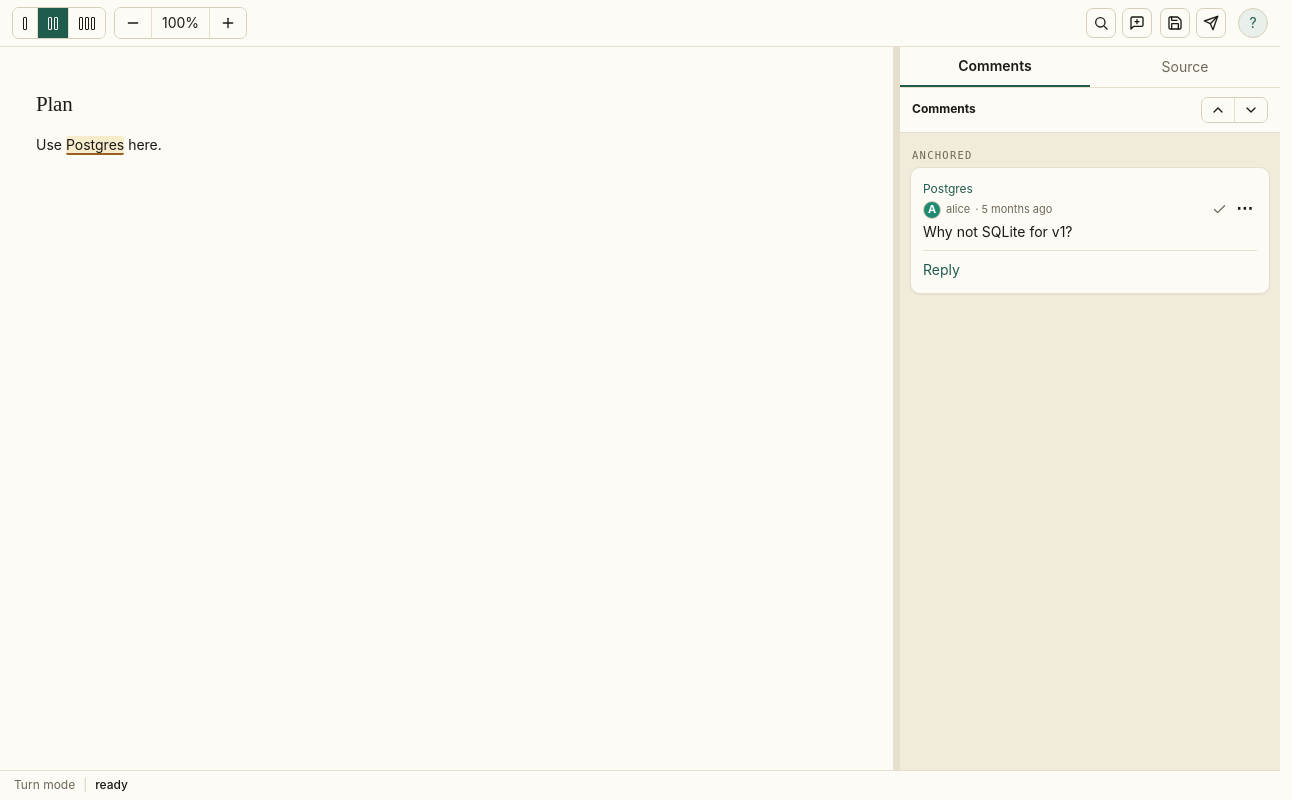
App comment-thread actions (memory-backed) › modify: ⋯ → Modify → edit text → Save updates the comment
Expected: the element that starts with "Postgres" is shown, [910,167,1270,294]
# Open the per-comment overflow menu (title "More").
Click the button titled "More" at coordinates (1244, 208), box [1232,203,1257,214]
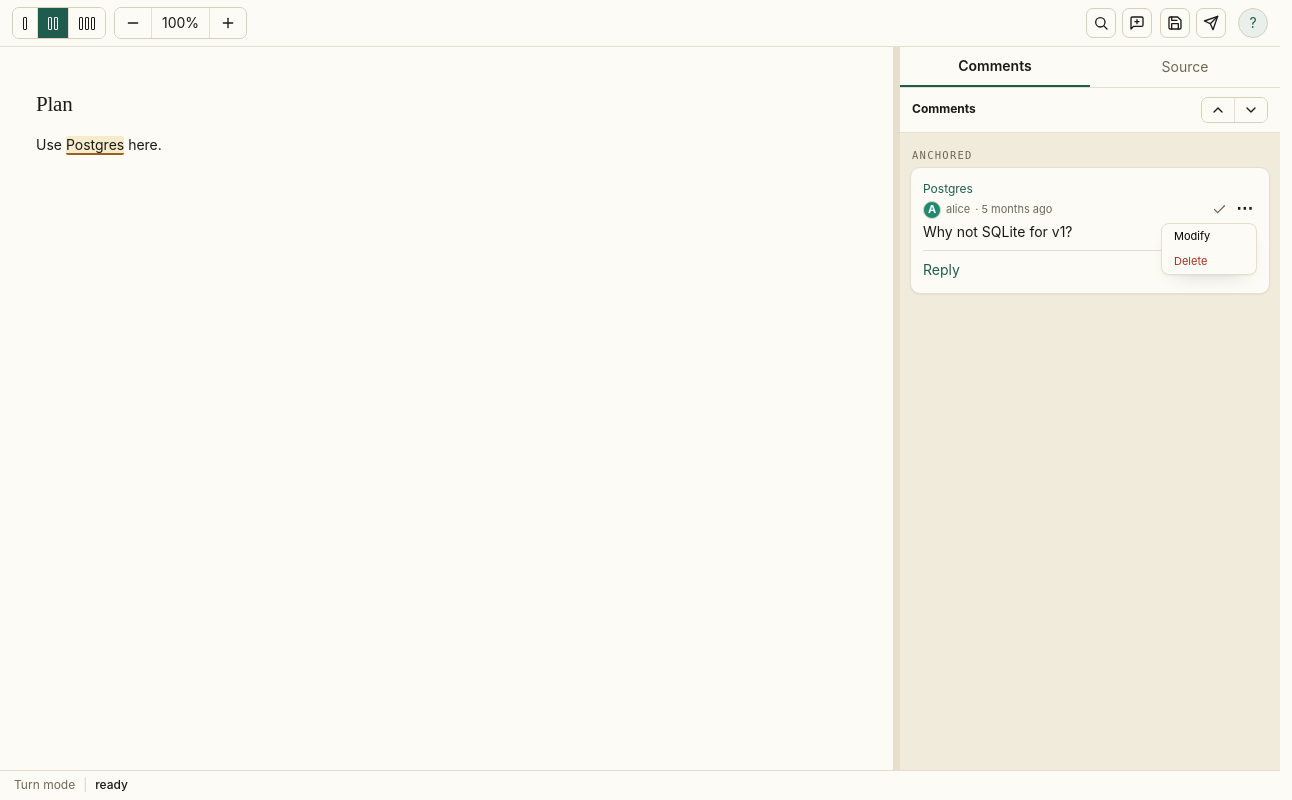
Click the button "Modify" at coordinates (1209, 236), box [1162,224,1256,249]
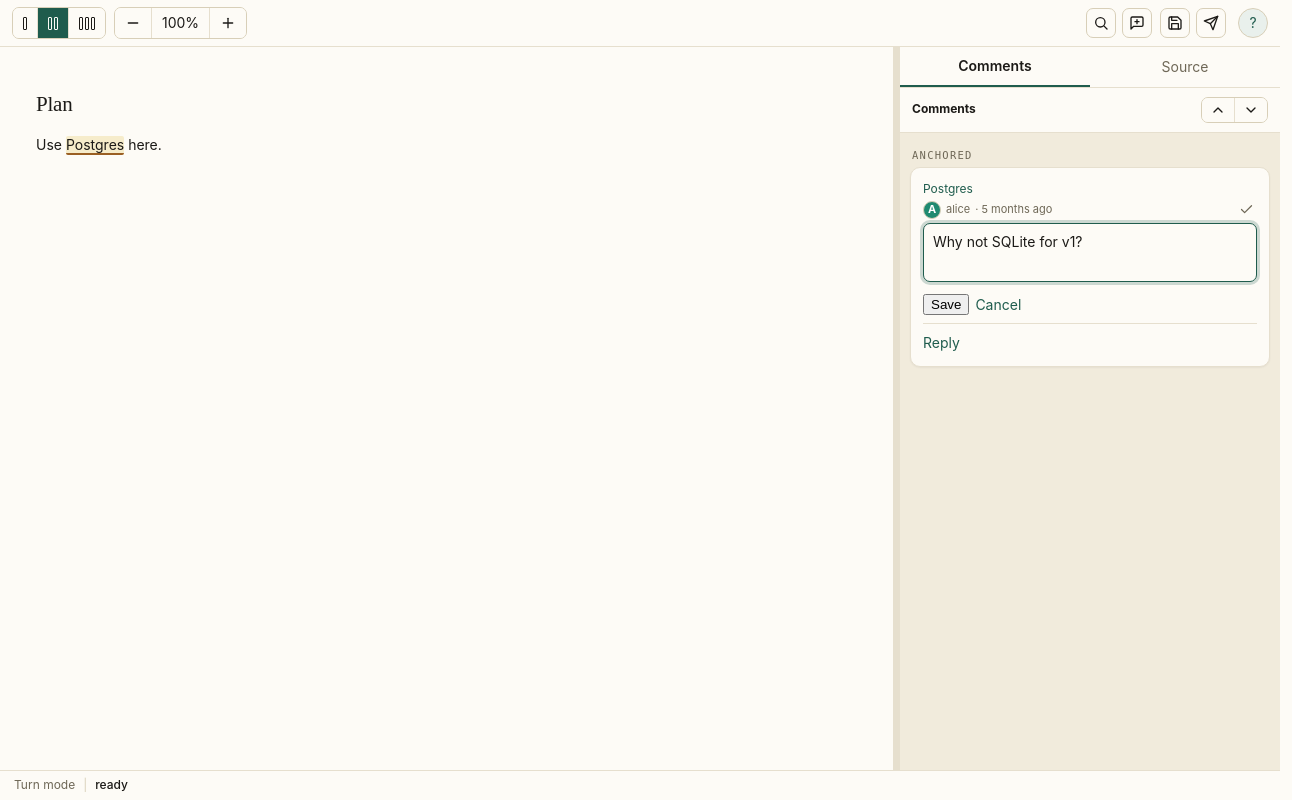
Expected: the element that starts with "Postgres" is shown, [910,167,1270,367]
Now the text box is shown
Replace the text in the text box with "Why not DuckDB for v1?" at coordinates (1090, 252), box [923,222,1257,282]
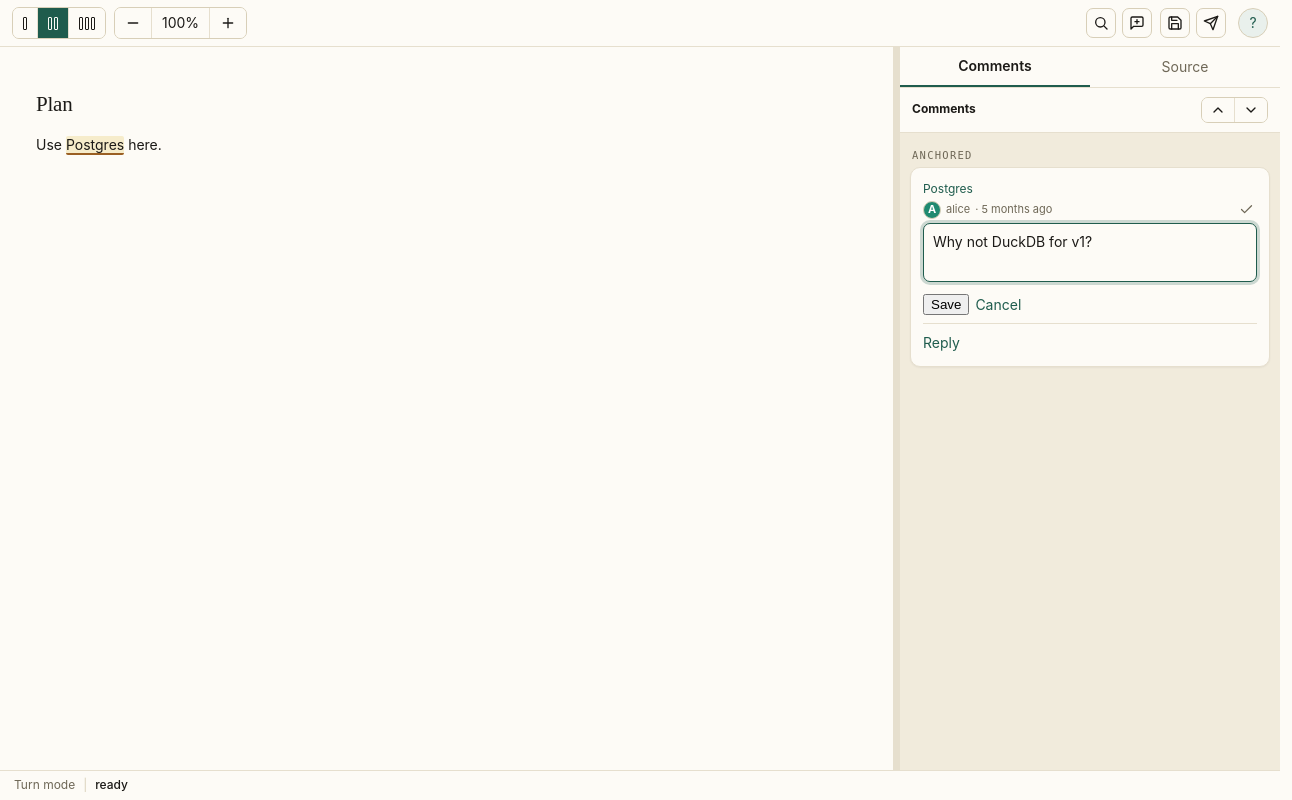
Expected: the element that starts with "Postgres" is shown, [910,167,1270,367]
Click the button "Save" at coordinates (946, 304), box [923,294,969,315]
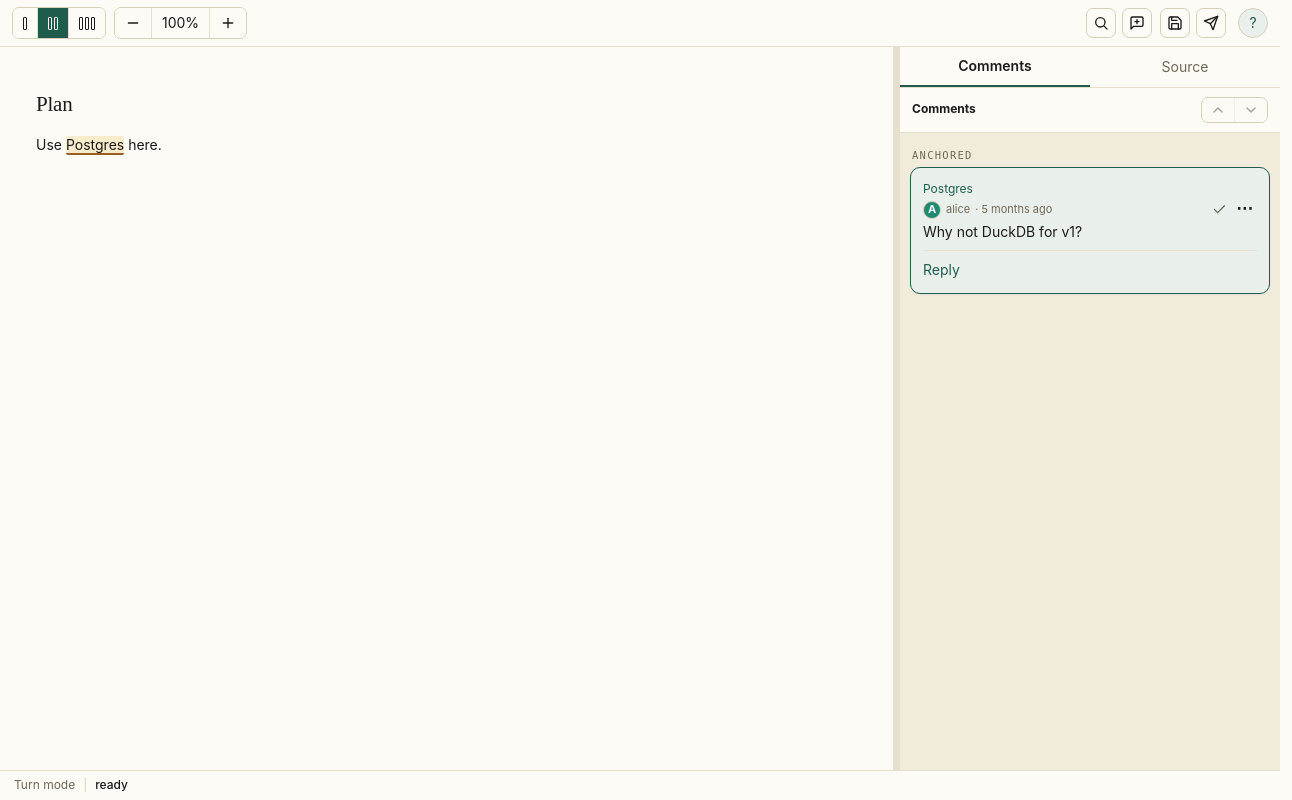
Expected: the element that starts with "Postgres" is shown, [910,167,1270,294]
Now the element that starts with "Postgres" shows "Why not DuckDB for v1?", box [923,222,1082,240]
